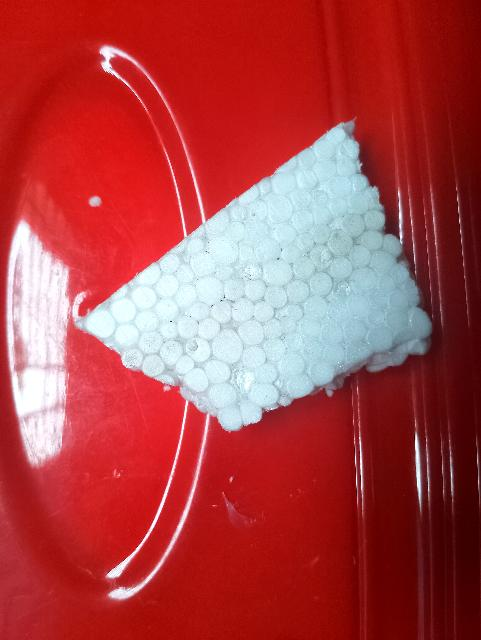cocksheet: (72, 122, 461, 482)
